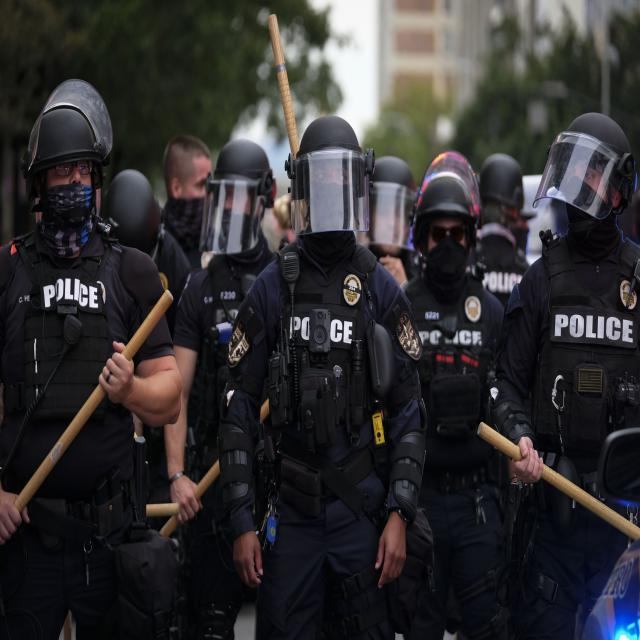police: (228, 89, 430, 640), (2, 31, 174, 640), (503, 101, 640, 640), (151, 132, 284, 640), (407, 154, 510, 640)
